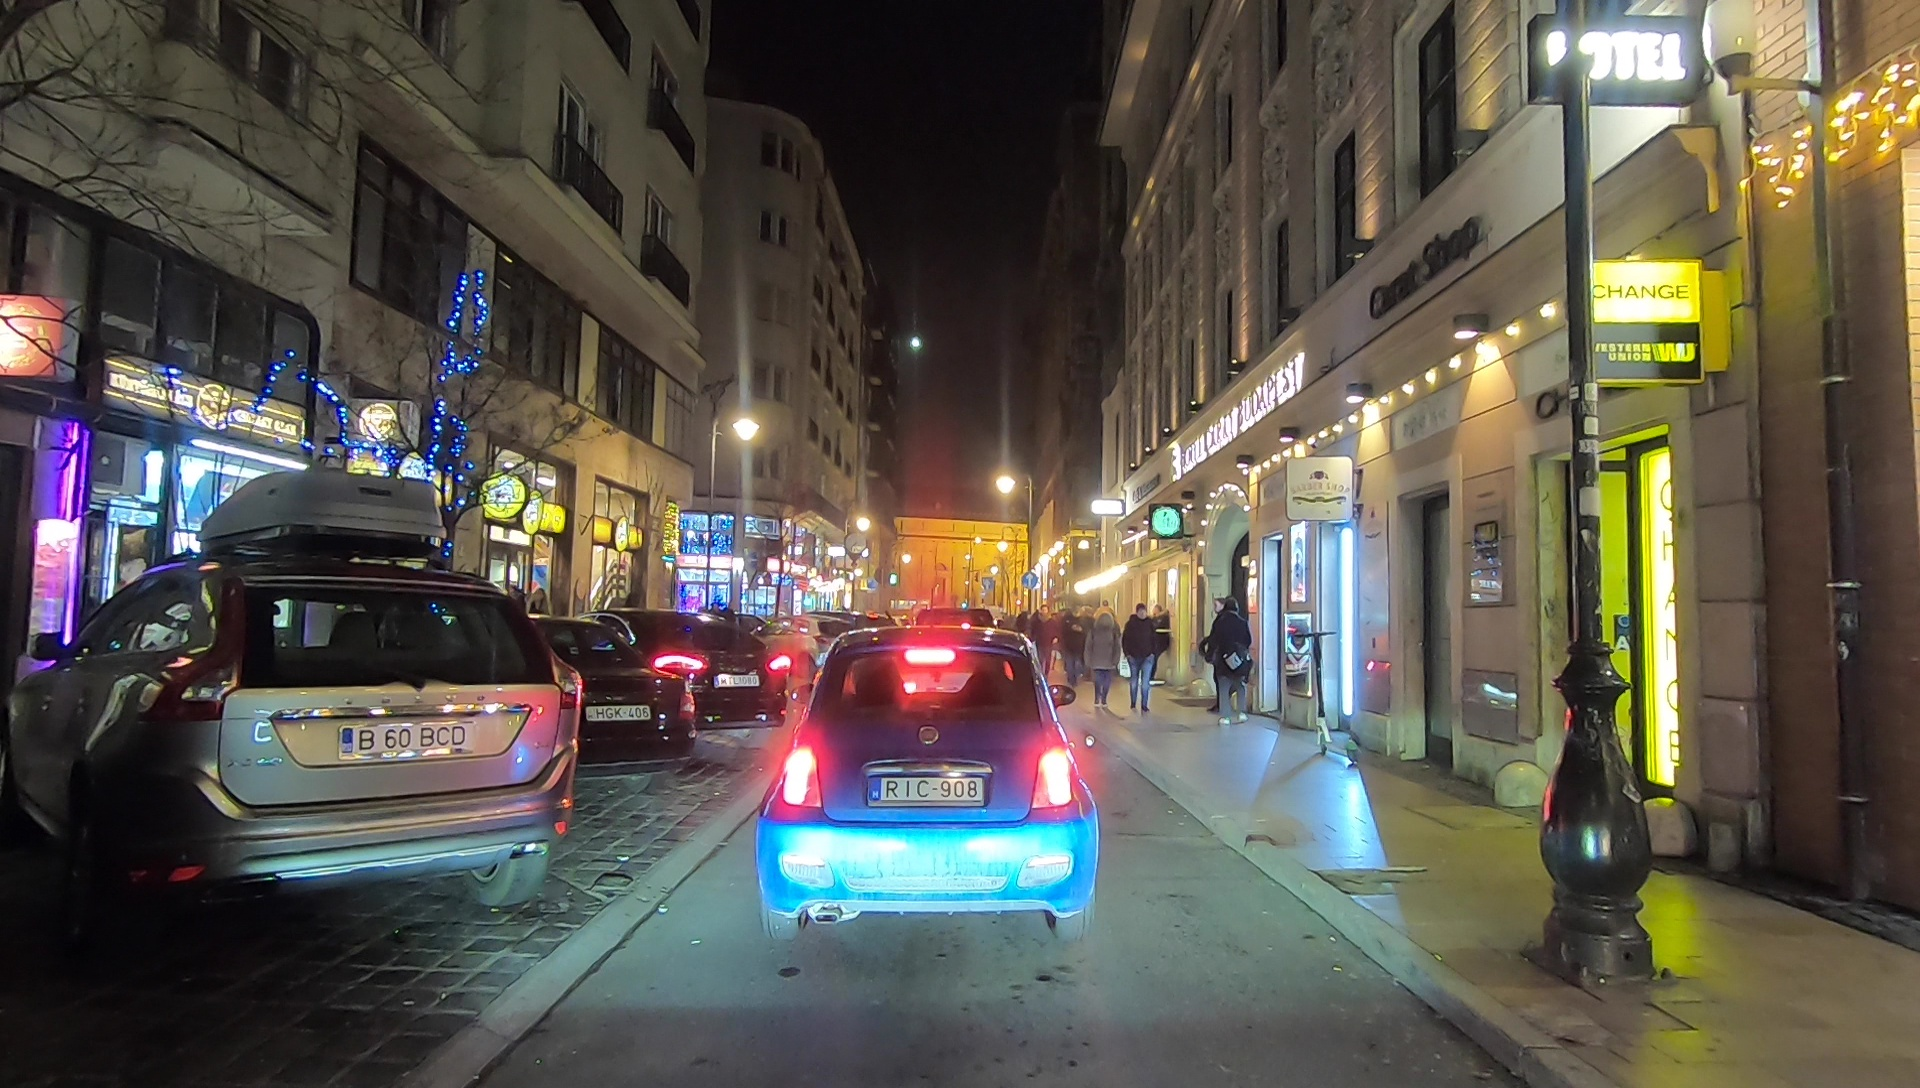person: (1214, 603, 1248, 727), (1125, 602, 1156, 707), (1089, 611, 1118, 707), (1148, 605, 1170, 683), (1035, 606, 1055, 688), (1066, 601, 1084, 681), (1056, 607, 1068, 689)
